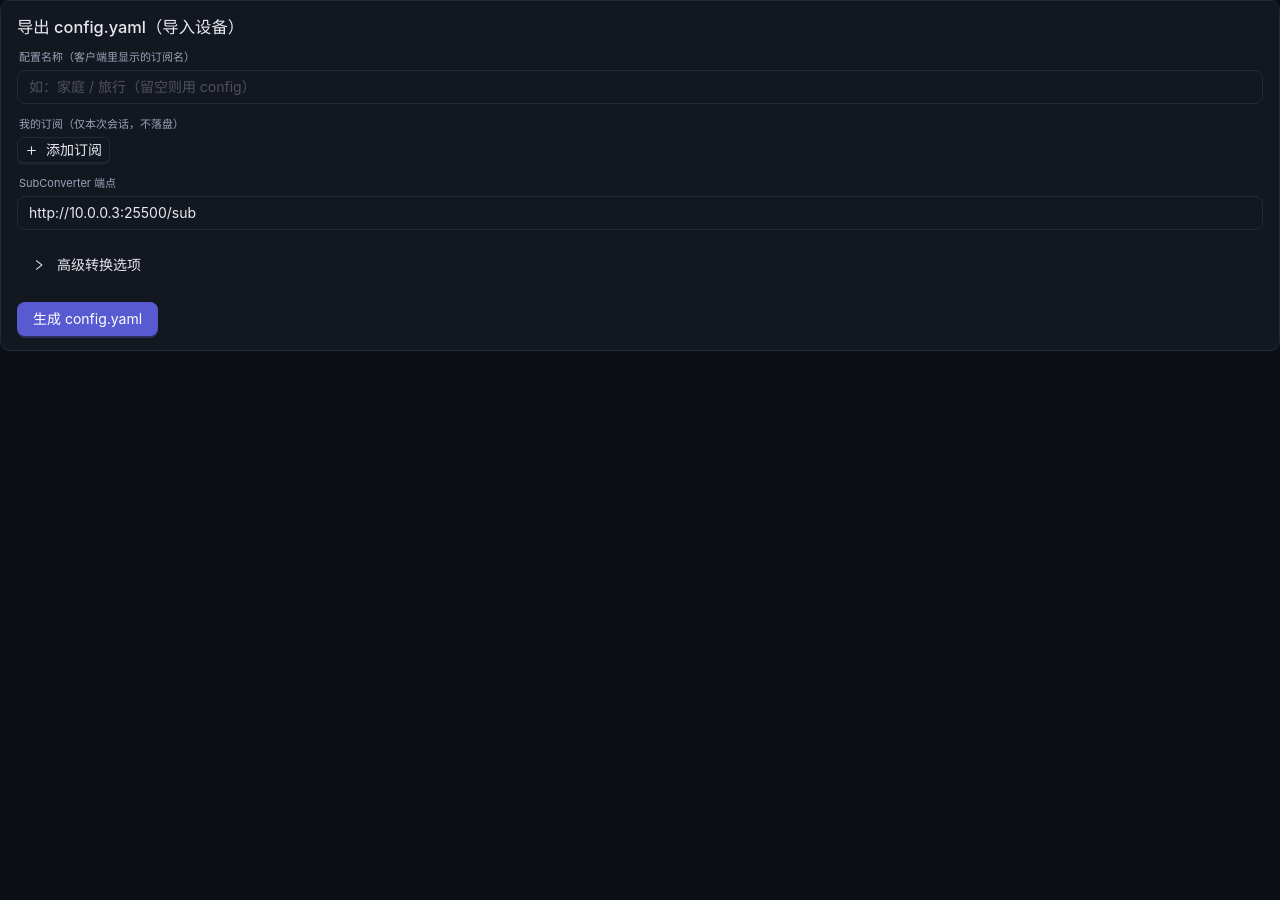
Test: collapses advanced convert options by default and reveals them on expand
Expected: the text "筛选节点（名称匹配，& = 同时包含）" is not shown
Expected: the text "User-Agent" is not shown
Click the button "高级转换选项": (87, 265) [33, 256, 141, 273]
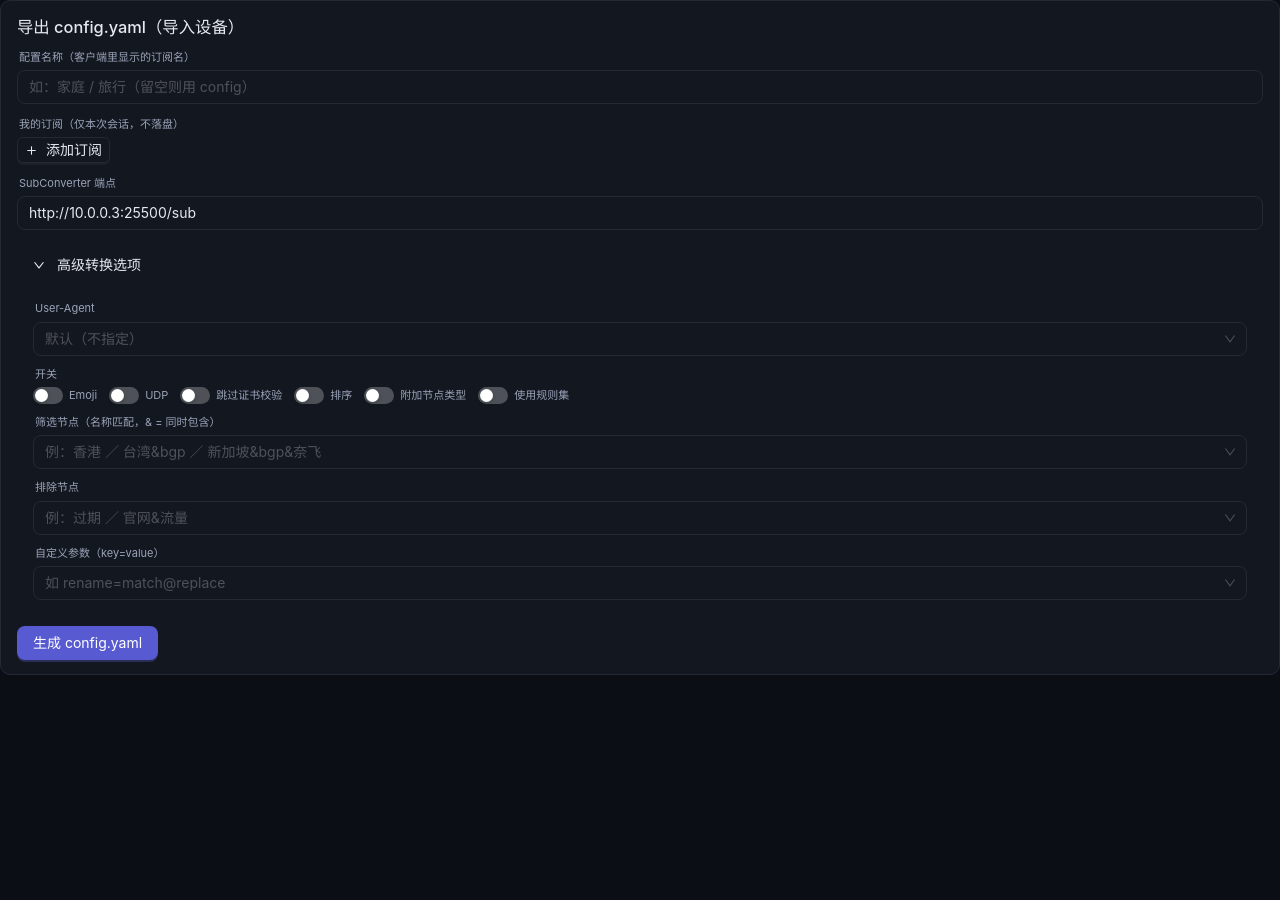
Result: the text "筛选节点（名称匹配，& = 同时包含）" is shown at [35, 415, 221, 429]
Result: the text "User-Agent" is shown at [35, 301, 95, 315]
Result: the text "使用规则集" is shown at [514, 387, 569, 404]
